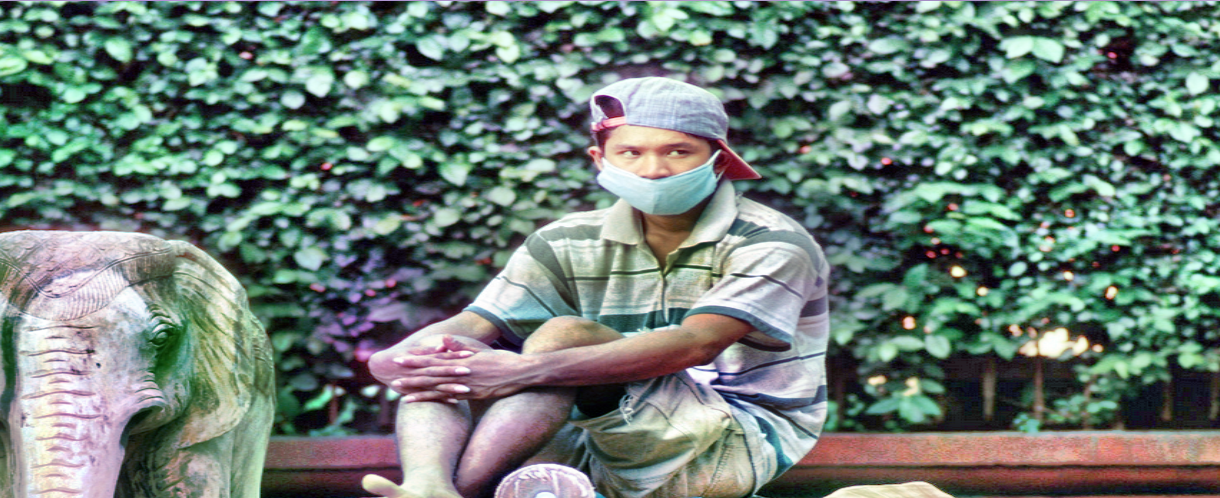mask_weared_incorrect: (581, 75, 751, 227)
